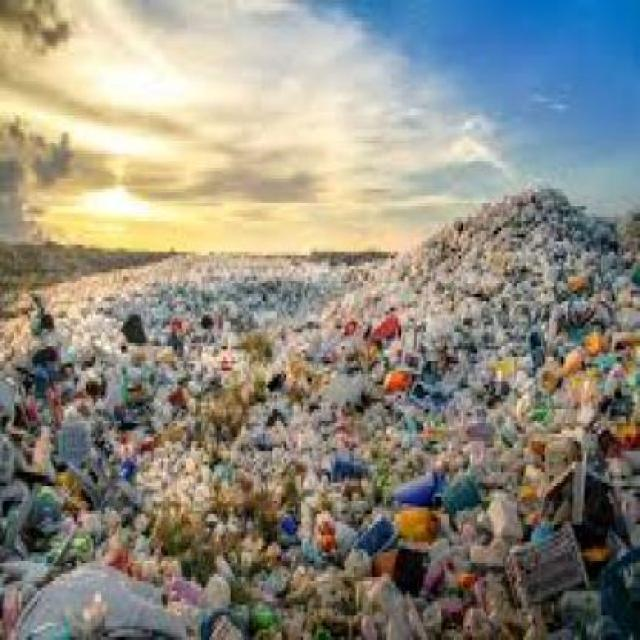garbage: (8, 238, 639, 636), (431, 197, 620, 491)
